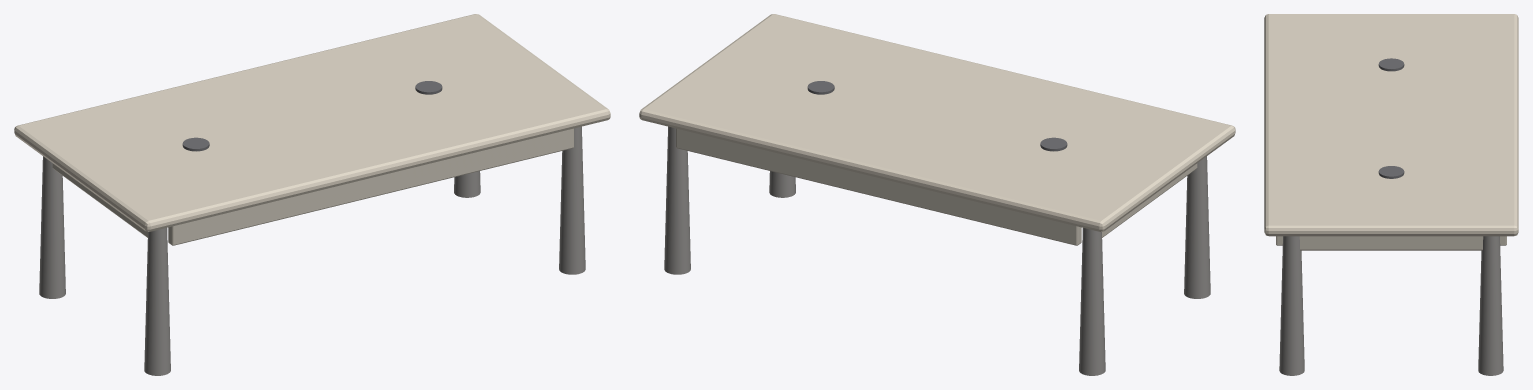
File: table.glb
The picture shows the model from 3 angles, left to right: view 1: azimuth 30°, elevation 25°; view 2: azimuth 150°, elevation 25°; view 3: azimuth 270°, elevation 25°; orthographic projection. The views are drawn at different scales.
Parts seen in each view (by area): view 1: furn_table; view 2: furn_table; view 3: furn_table.
Boxes of the visible parts, left/top/right/bottom form: furn_table: left=14, top=14, right=610, bottom=375; furn_table: left=639, top=14, right=1235, bottom=375; furn_table: left=1264, top=14, right=1518, bottom=375.
Bounding box in the file's own units: 2.2 × 0.751 × 1.1.
